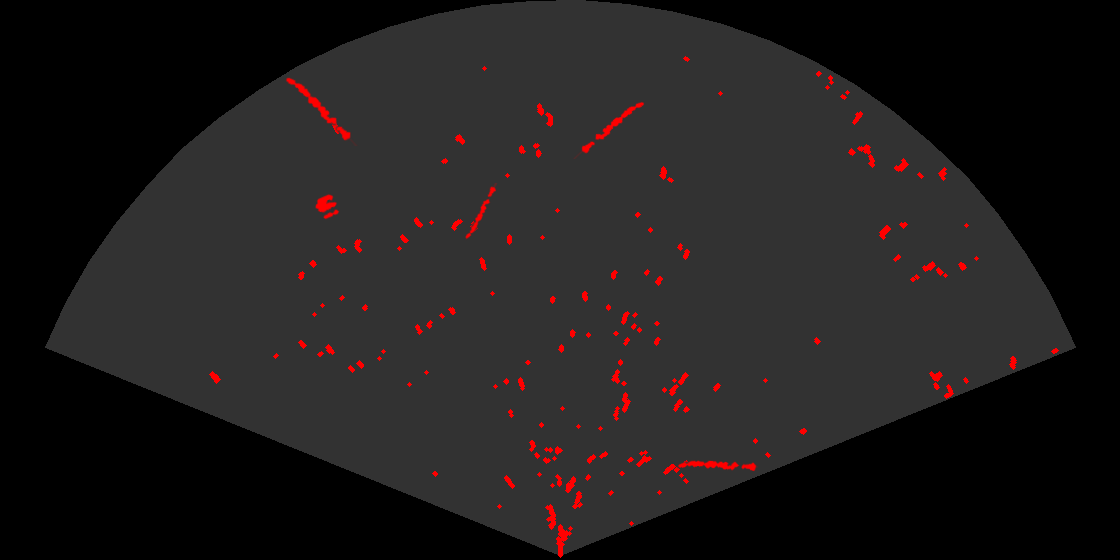ball: (314, 193, 341, 221)
chain: (284, 76, 359, 146), (572, 100, 646, 159), (464, 183, 499, 241), (677, 459, 758, 473)
